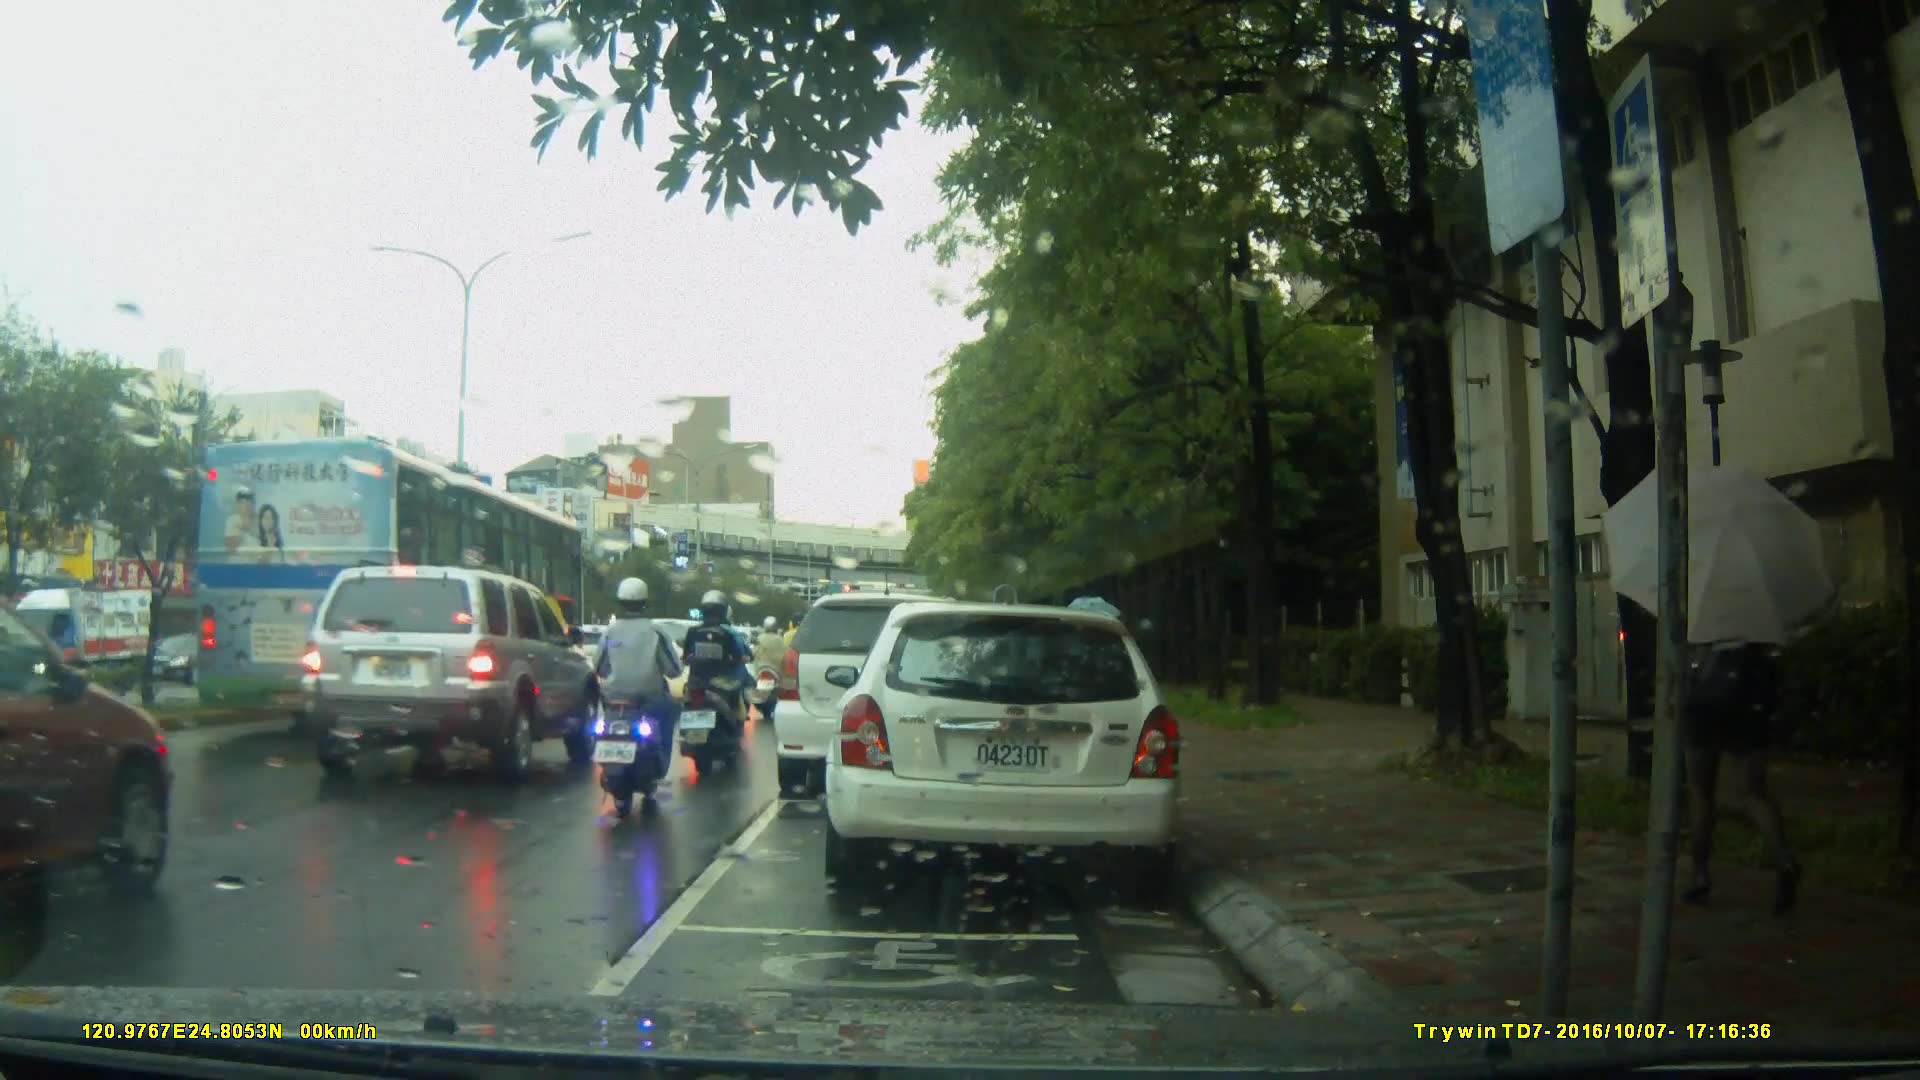pedestrian: (1689, 517, 1825, 916)
rider: (597, 573, 685, 809), (672, 588, 745, 783), (702, 600, 760, 735), (754, 611, 796, 724)
vehicle: (184, 435, 589, 739), (835, 594, 1194, 898), (298, 560, 608, 780), (1, 587, 176, 938), (776, 590, 1026, 784), (1, 586, 160, 697)
